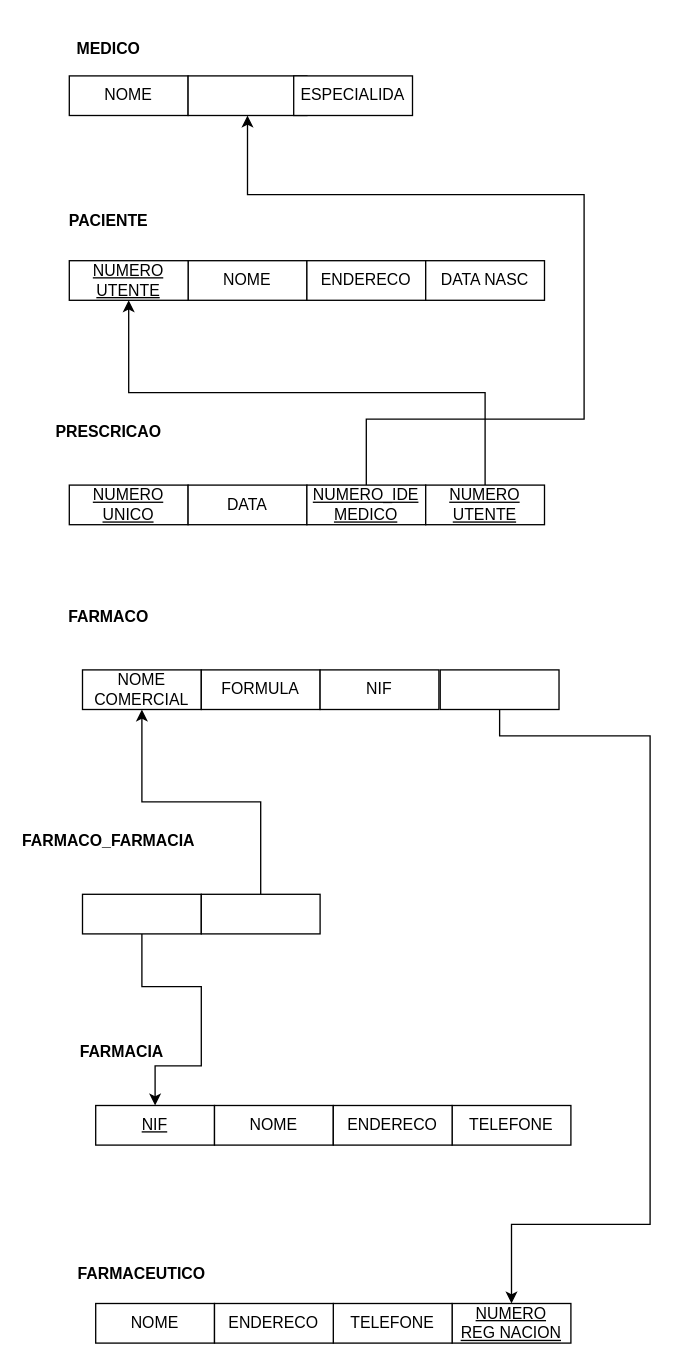
The diagram is 684 pixels wide and 1366 high, and some of its shapes have lost their labels. Here are the shapes that lost their labels. From the top down, the centre of each, then its label:
[247,95]: NUMERO IDENT
[499,689]: NUMERO REG FARM
[141,913]: NIF FARMACIA
[260,913]: NOME_COME FARMACO
